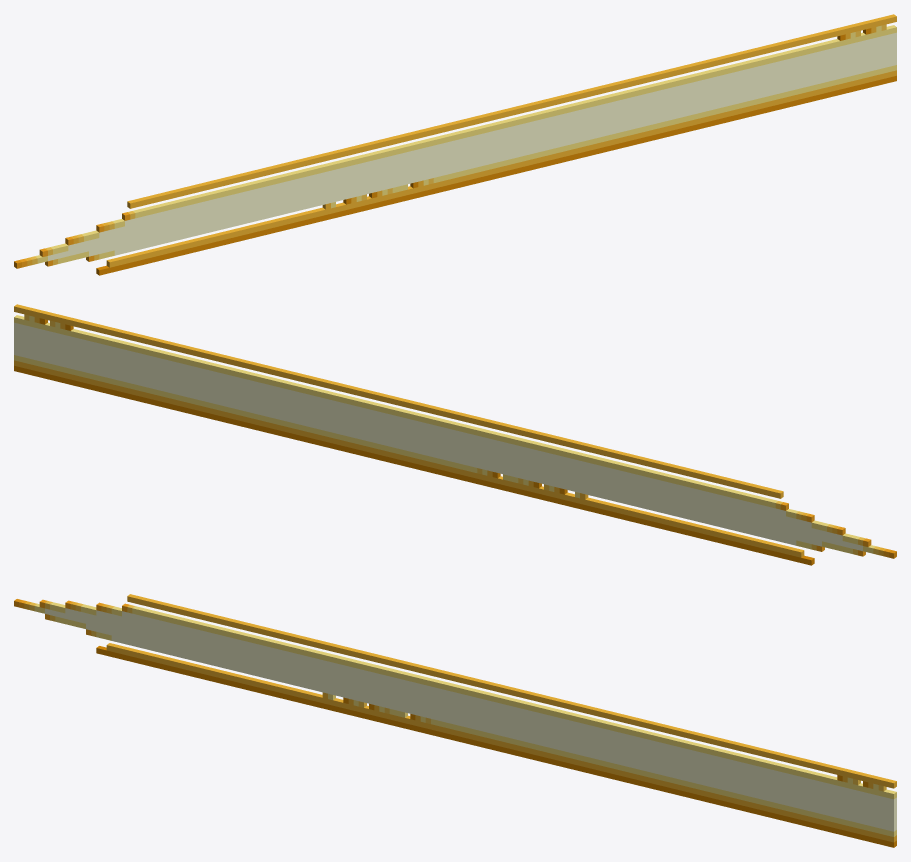
Rendered from Fight_749_2_18_fx.obj.
3 views of the same model, one above another, from view 1: azimuth 30°, elevation 25°; view 2: azimuth 150°, elevation 25°; view 3: azimuth 330°, elevation 25° (orthographic).
Bounding box in the file's own units: 17.1 × 1.2 × 0.1.
Materials: 1 (1 with a texture image).
